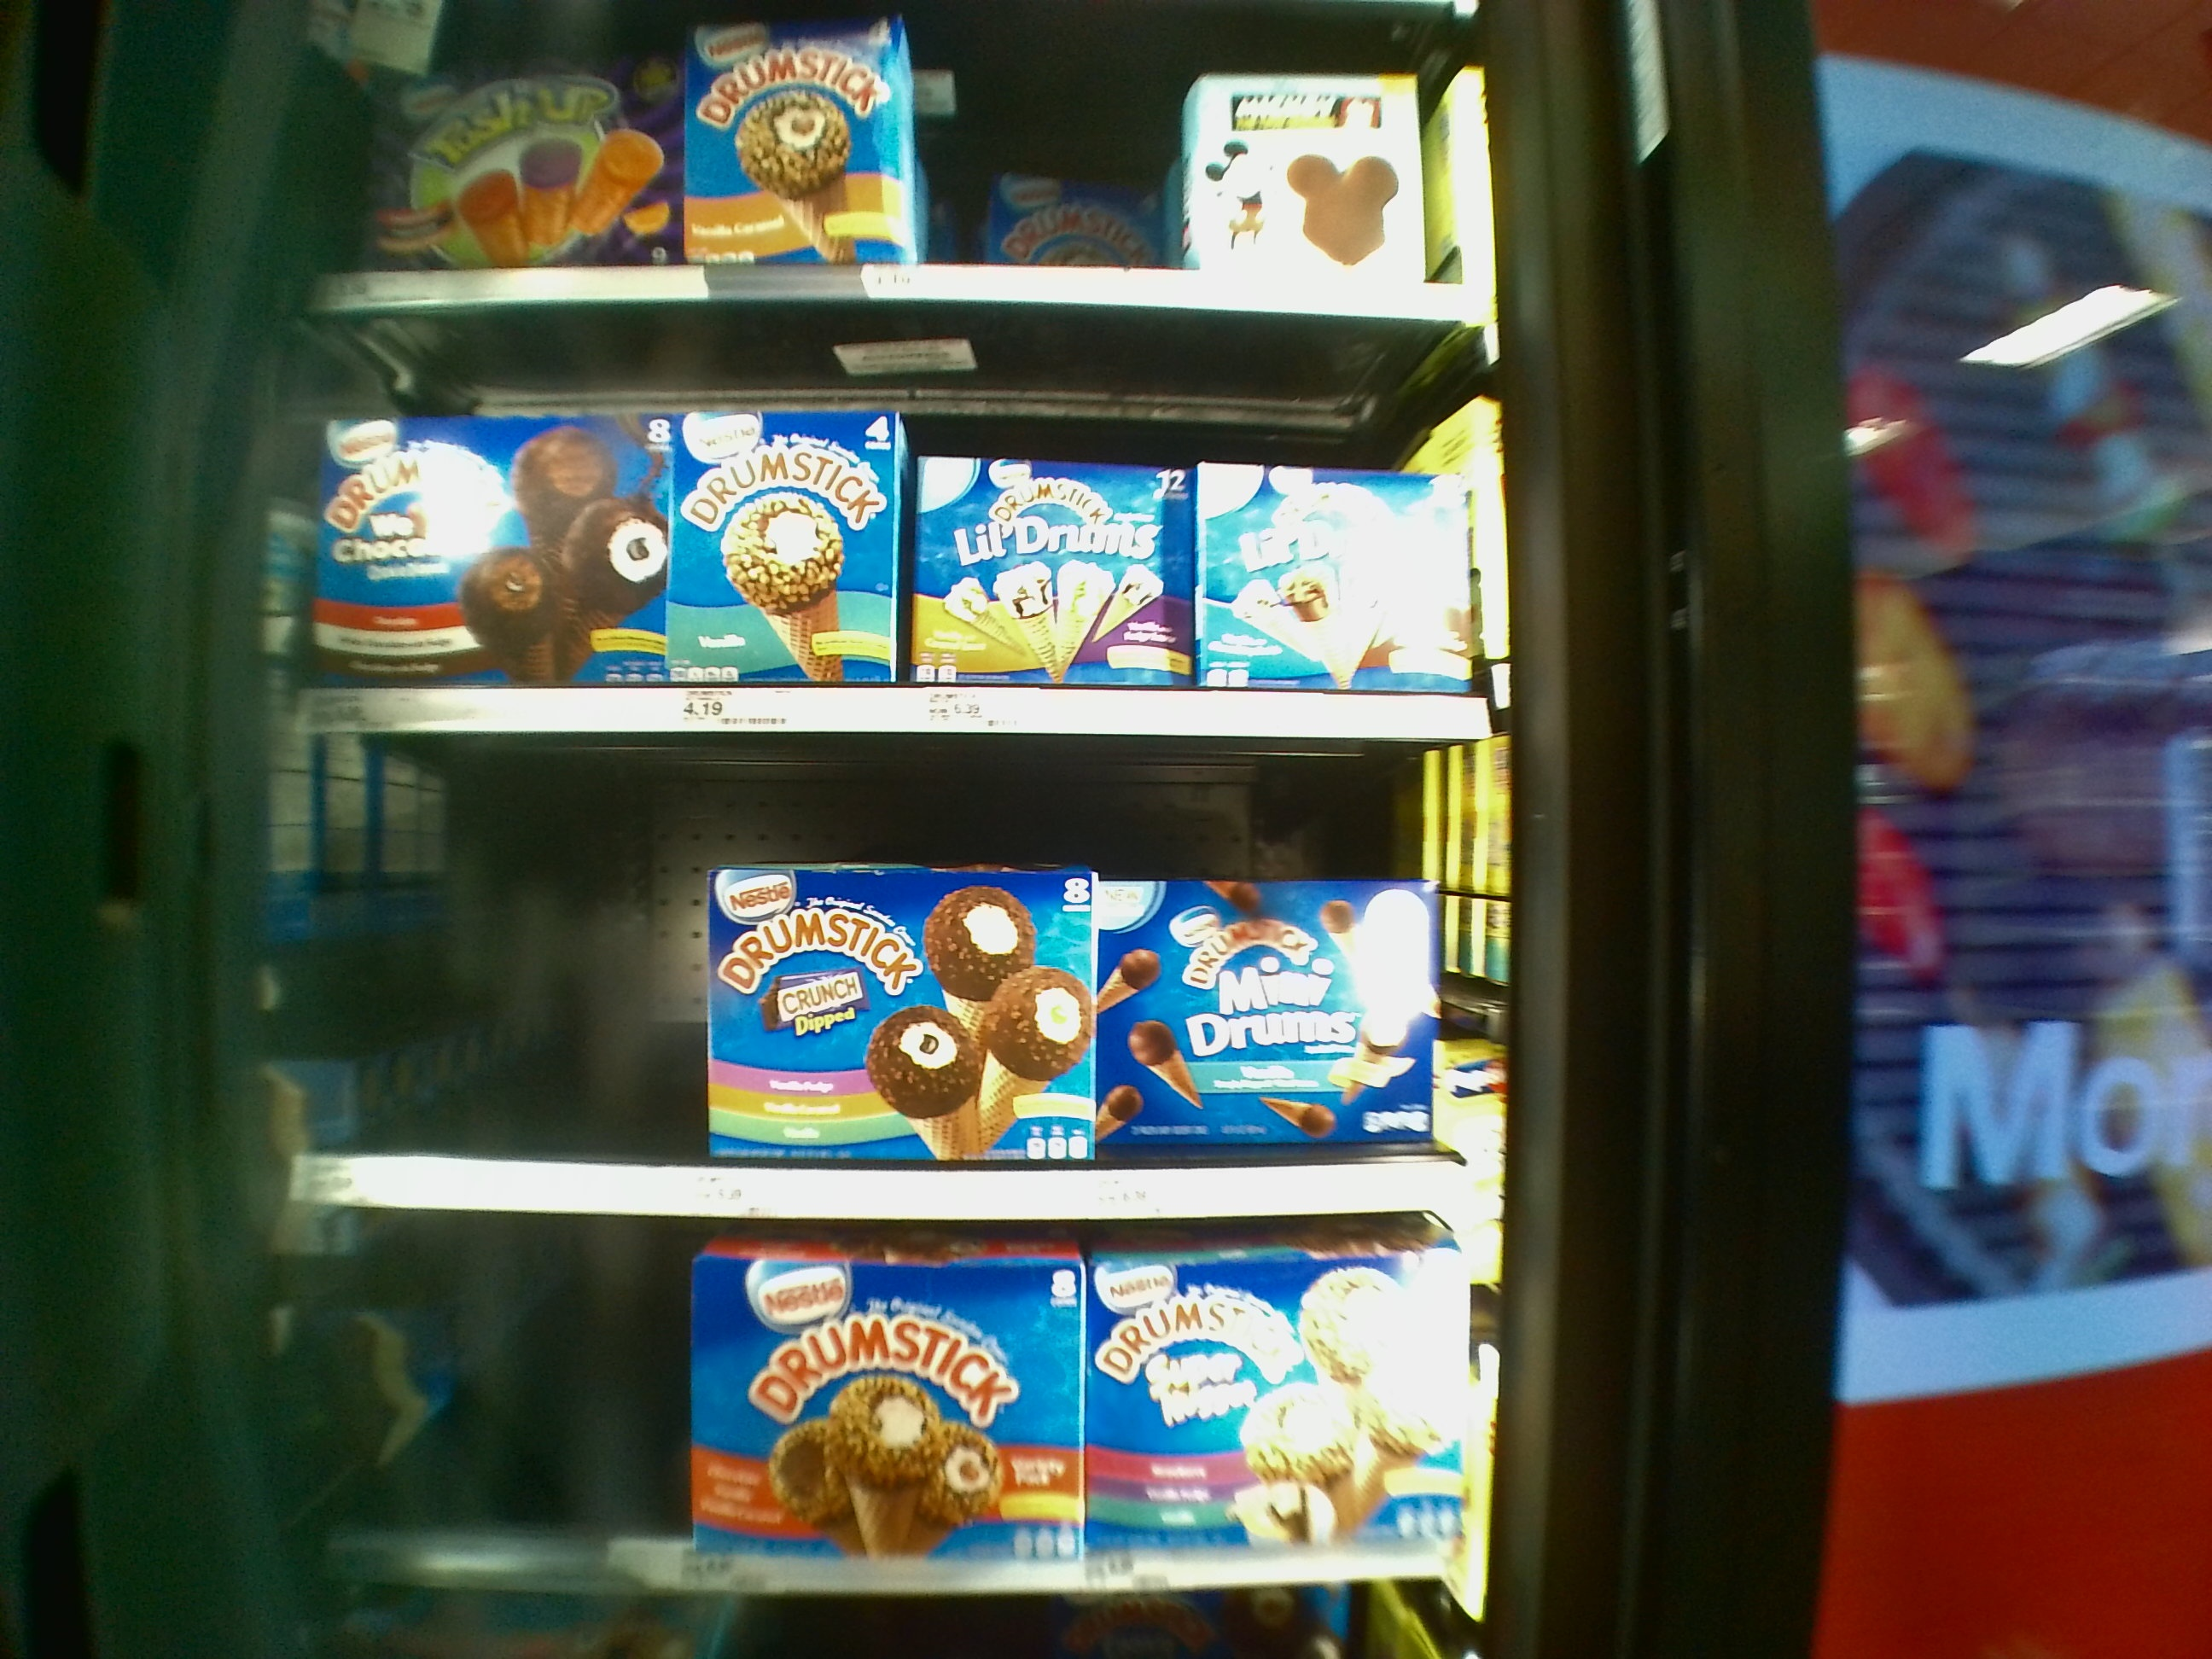shelf: (315, 746, 1439, 1220), (317, 315, 1472, 742), (322, 1204, 1460, 1586)
